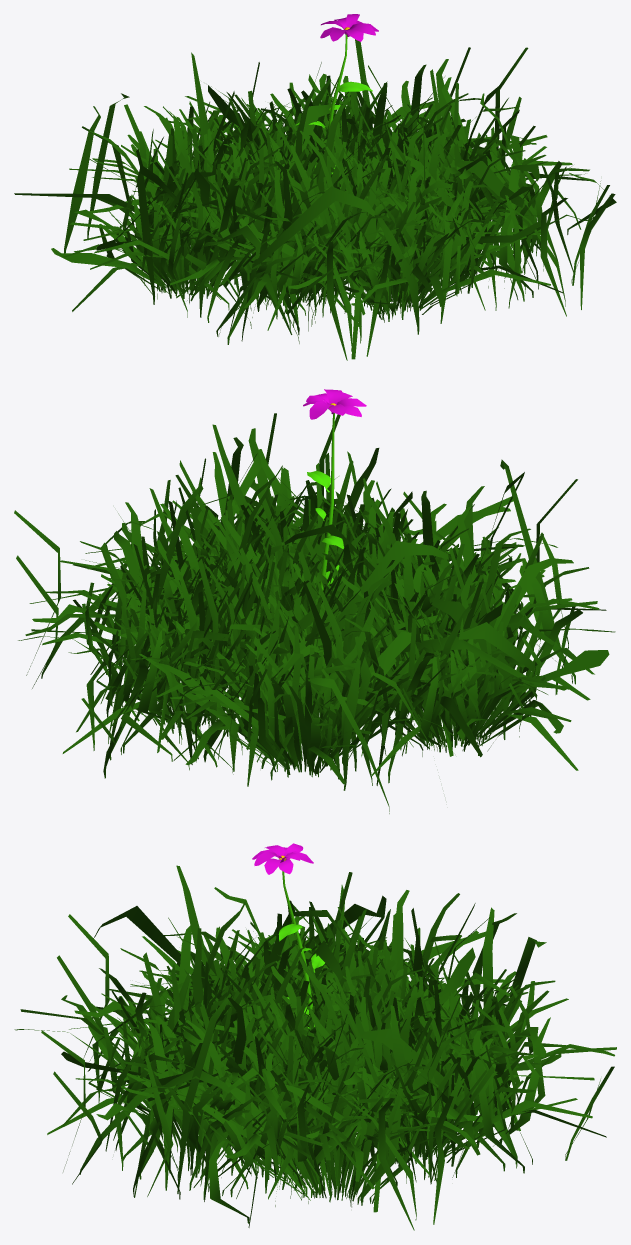
File: Player_test.fbx
The picture shows the model from 3 angles, top to bottom: view 1: azimuth 30°, elevation 25°; view 2: azimuth 150°, elevation 25°; view 3: azimuth 270°, elevation 25°; orthographic projection. The views are drawn at different scales.
Visible parts, largest first — view 1: Player; view 2: Player; view 3: Player.
Part boxes in pixels (x1,y1,x2,y2): Player: [14, 14, 616, 360]; Player: [14, 389, 615, 813]; Player: [14, 843, 616, 1230].
Bounding box in the file's own units: 176 × 90.26 × 178.
